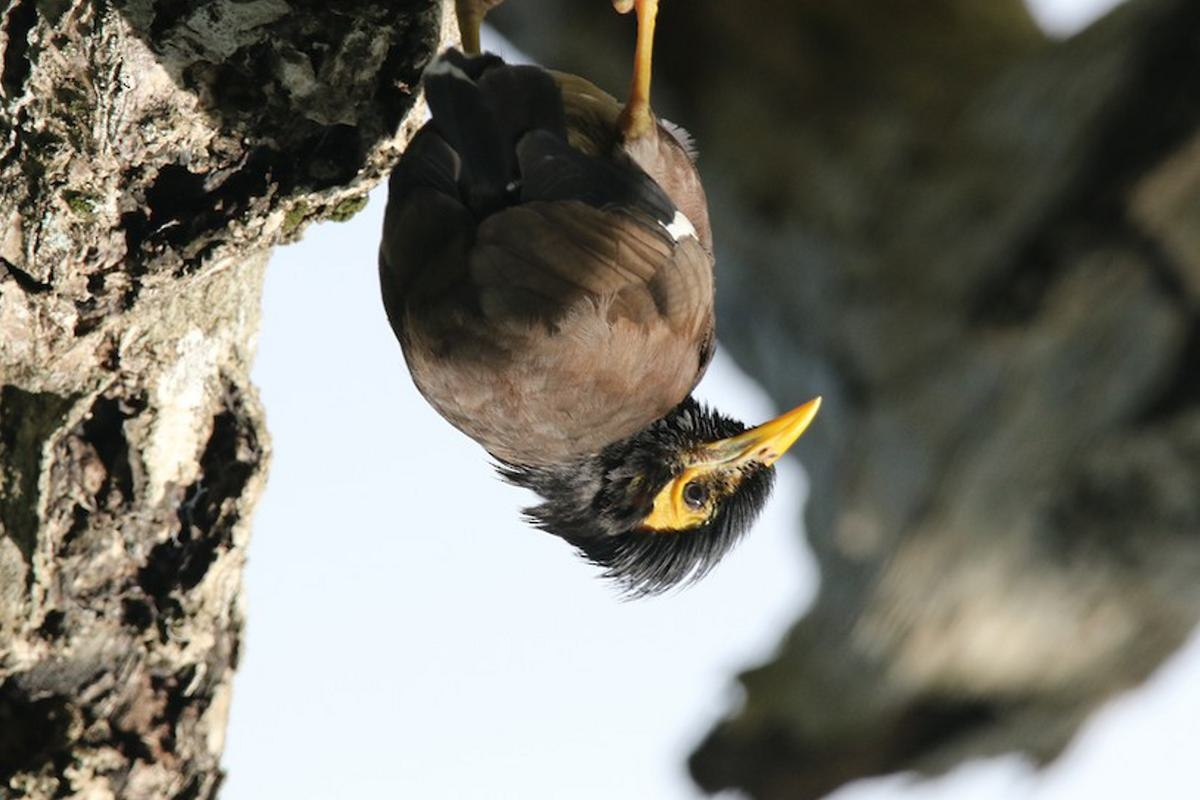myna: (235, 16, 870, 605)
